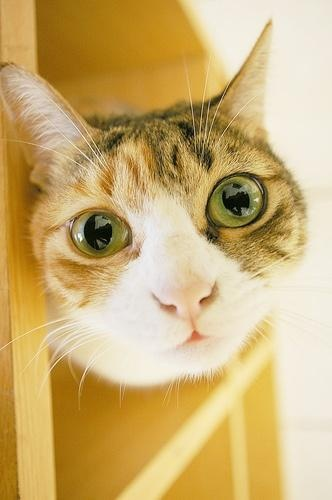cat: (8, 19, 313, 394)
